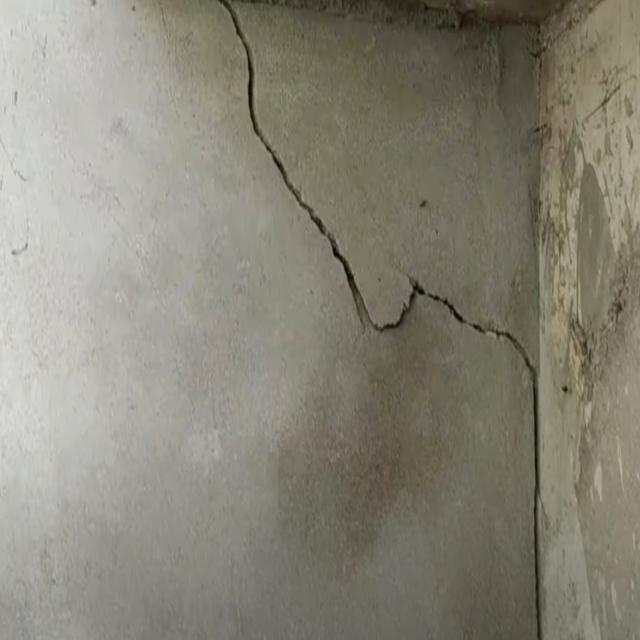Wall_Cracks: (215, 0, 573, 640)
